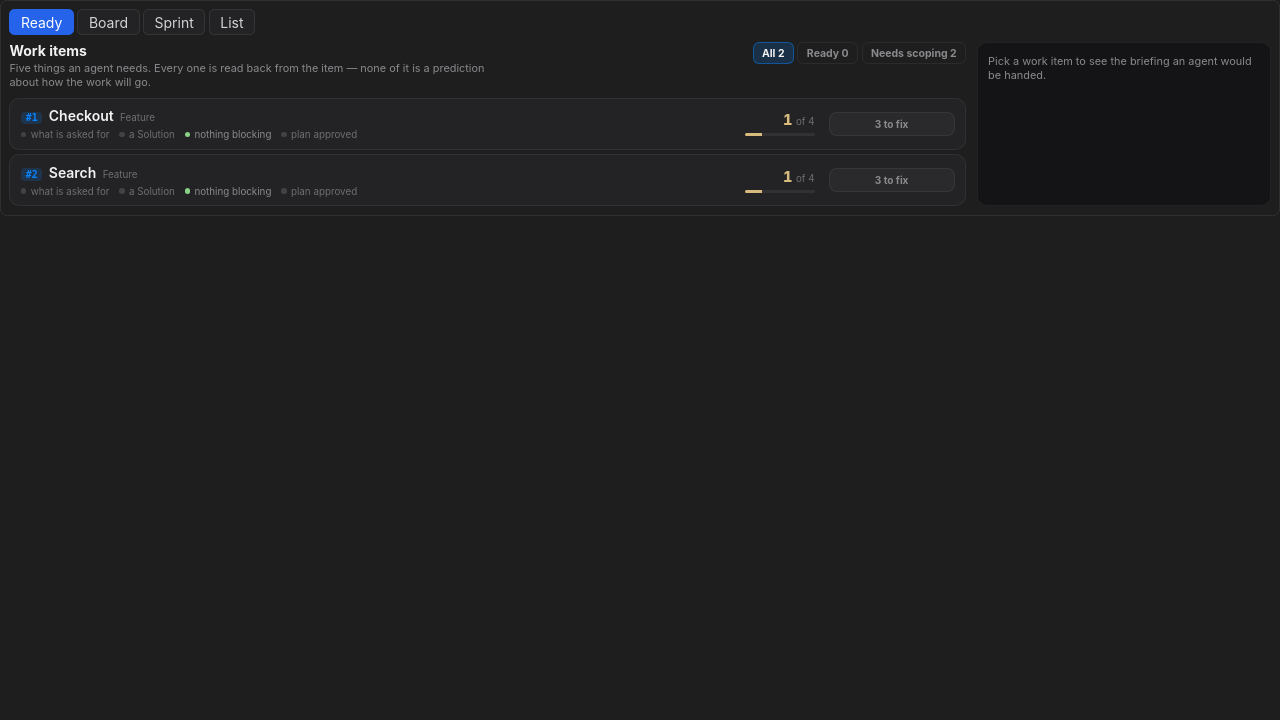
Test: WorkItemViews › names what is still missing in the briefing
Expected: the list item with aria-label "Checkout — 1 of 4 ready" is shown, [9,98,966,150]
Click the button with aria-label "Show the briefing for Checkout": (81, 116) [21,107,815,140]
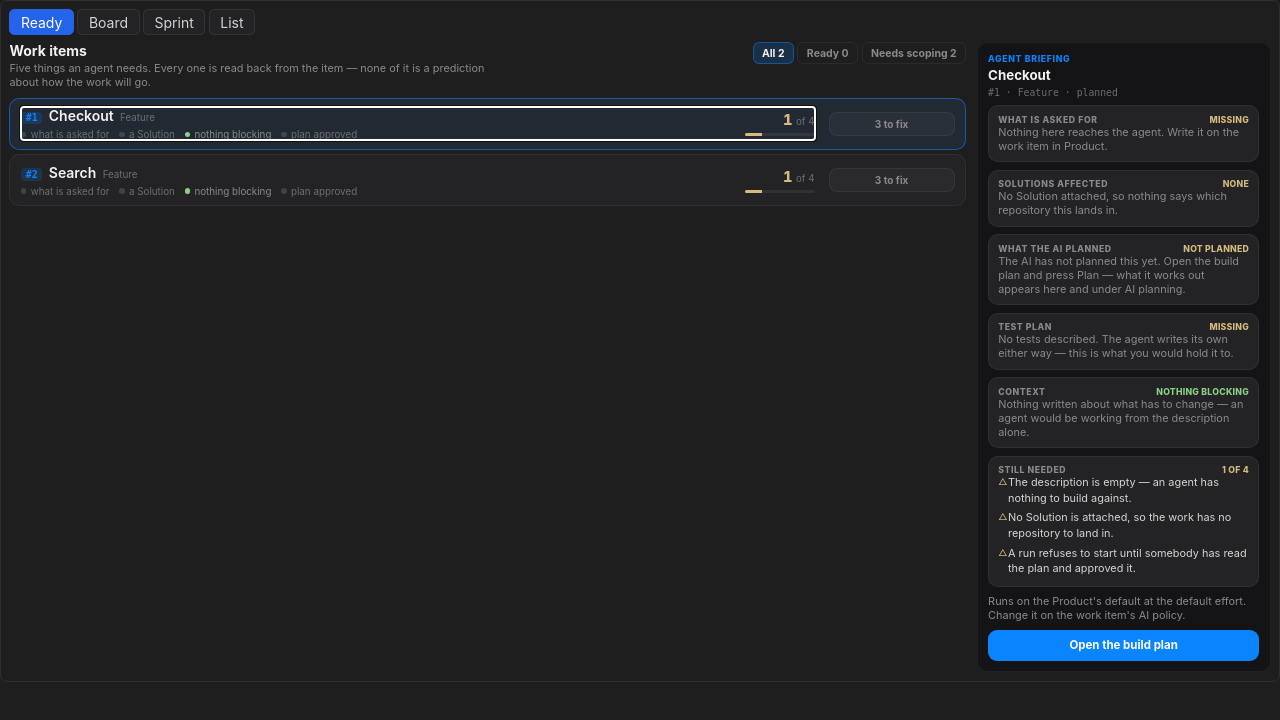
Expected: the button "Open the build plan" is shown, [988,630,1259,661]
